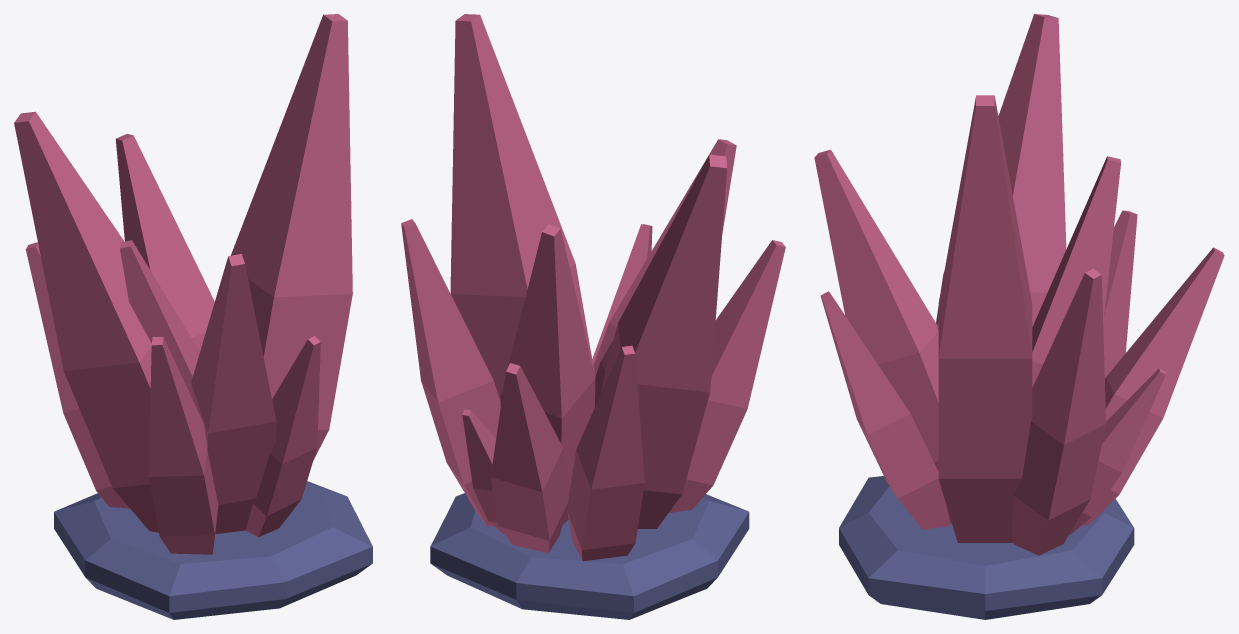
Rendered from crystal3.glb.
3 views of the same model, side by side, from view 1: azimuth 30°, elevation 25°; view 2: azimuth 150°, elevation 25°; view 3: azimuth 270°, elevation 25° (orthographic).
Parts seen in each view (by area): view 1: Cube.002, Cube.004, Cube.001, Cube.012, Cube.010, Cube.003, Cube.011, Cube.005, Cube.009; view 2: Cube.002, Cube.004, Cube.001, Cube.006, Cube.009, Cube.003, Cube.008, Cube.010, Cube.007, Cube.012, Cube.011; view 3: Cube.002, Cube.001, Cube.006, Cube.012, Cube.004, Cube.011, Cube.008, Cube.003, Cube.007, Cube.009.
Boxes of the visible parts, x1,y1,x2,y2 form: Cube.002: (231, 14, 352, 460); Cube.004: (14, 111, 158, 532); Cube.001: (54, 481, 372, 619); Cube.012: (191, 254, 276, 534); Cube.010: (148, 337, 218, 554); Cube.003: (115, 134, 214, 351); Cube.011: (245, 336, 320, 537); Cube.005: (120, 240, 199, 399); Cube.009: (25, 242, 129, 508); Cube.002: (450, 14, 594, 402); Cube.004: (601, 154, 727, 528); Cube.001: (430, 493, 749, 619); Cube.006: (401, 219, 500, 526); Cube.009: (567, 345, 644, 561); Cube.003: (500, 224, 595, 524); Cube.008: (490, 363, 569, 552); Cube.010: (669, 240, 785, 512); Cube.007: (462, 409, 503, 533); Cube.012: (593, 139, 736, 376); Cube.011: (592, 224, 652, 365); Cube.002: (938, 95, 1032, 542); Cube.001: (839, 476, 1134, 619); Cube.006: (1011, 268, 1105, 555); Cube.012: (814, 149, 951, 523); Cube.004: (936, 14, 1066, 326); Cube.011: (820, 291, 950, 529); Cube.008: (1082, 247, 1224, 525); Cube.003: (1032, 156, 1120, 387); Cube.007: (1069, 368, 1165, 534); Cube.009: (1103, 210, 1137, 378).
Bounding box in the file's own units: 2.82 × 4.56 × 3.26.
12 materials, 12 textured.
